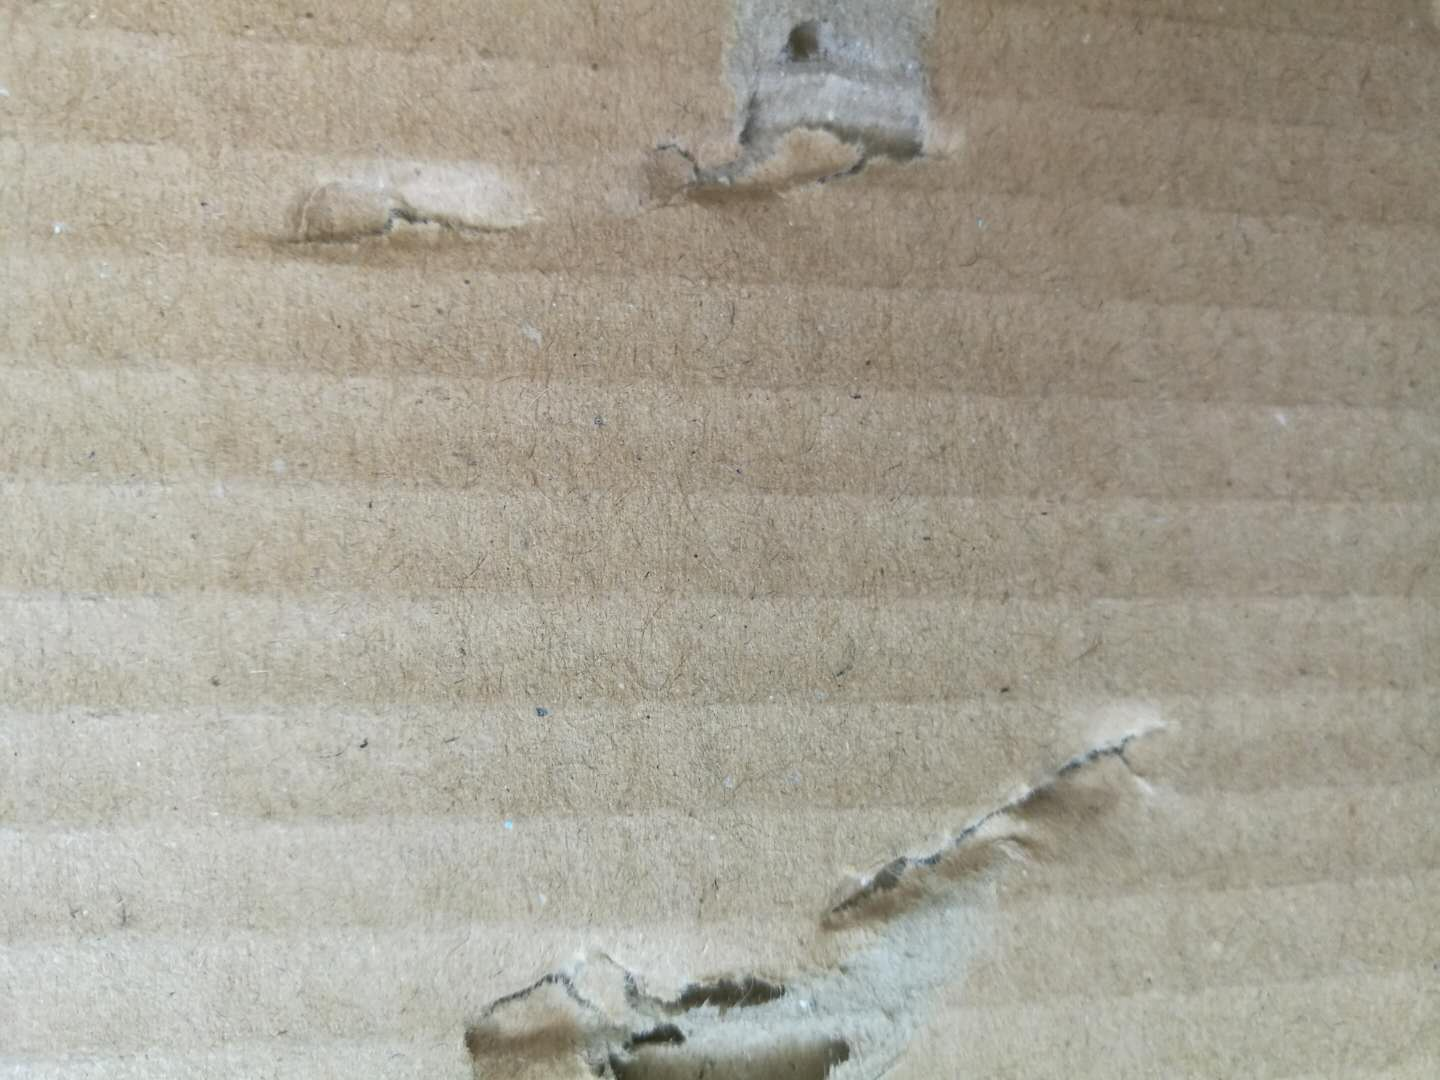defect: (398, 670, 1218, 1080), (612, 1, 1017, 241), (219, 129, 588, 289)
